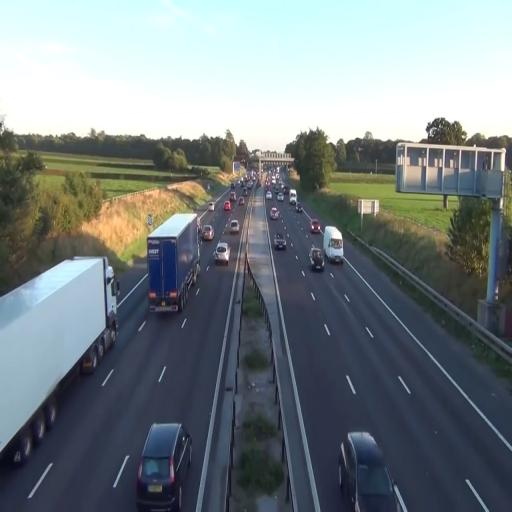vehicle: (0, 256, 119, 468), (339, 430, 408, 512), (147, 212, 201, 314), (135, 421, 191, 510), (322, 226, 344, 263), (310, 246, 324, 272), (214, 242, 230, 264), (200, 222, 214, 240), (226, 218, 240, 236), (274, 231, 287, 250), (310, 219, 322, 235)
